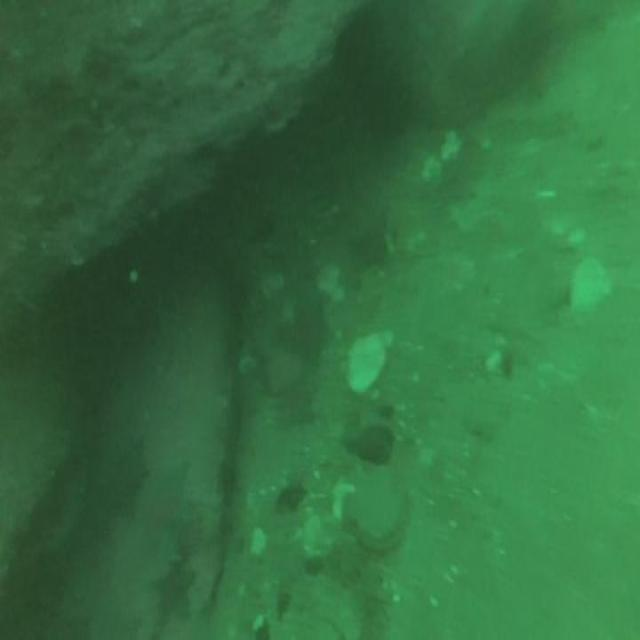scallop: (353, 464, 404, 554), (346, 334, 388, 396)
